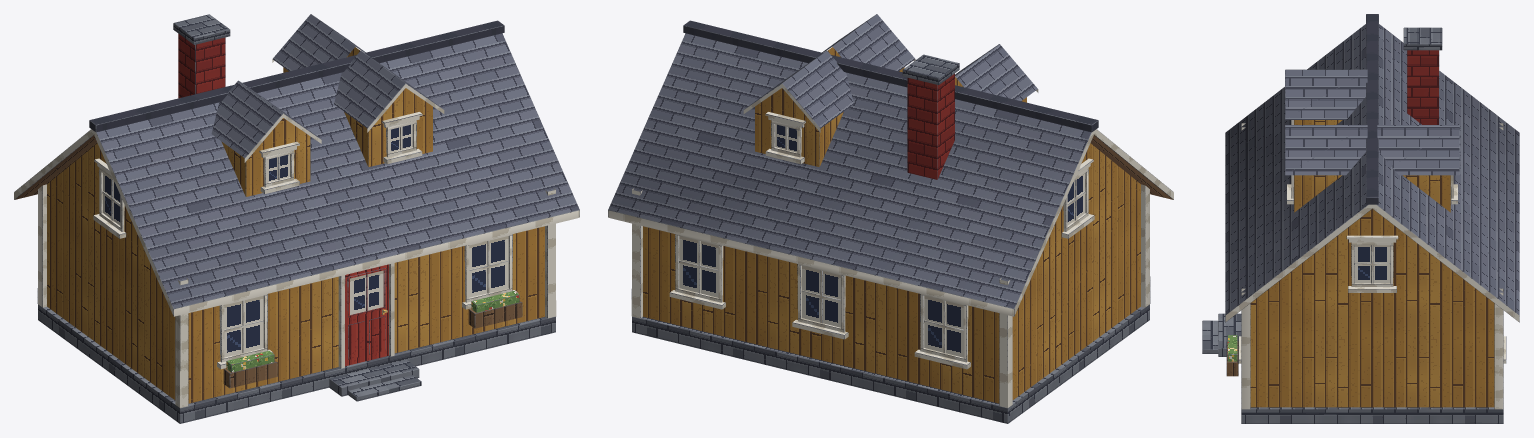
The model's file is town_house_6.glb.
3 views of the same model, side by side, from view 1: azimuth 30°, elevation 25°; view 2: azimuth 150°, elevation 25°; view 3: azimuth 270°, elevation 25° (orthographic). The views are drawn at different scales.
Parts seen in each view (by area): view 1: town_house_7; view 2: town_house_7; view 3: town_house_7.
Part boxes in pixels (x1,y1,x2,y2): town_house_7: (14, 14, 579, 423); town_house_7: (608, 14, 1173, 423); town_house_7: (1202, 14, 1519, 423).
Size of the model in its own units: 9.46 by 6.55 by 6.9.
12 materials, 12 textured.
